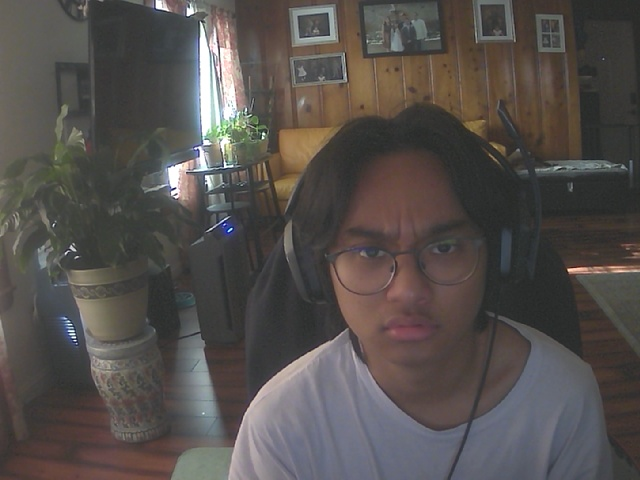anger: (330, 144, 493, 367)
